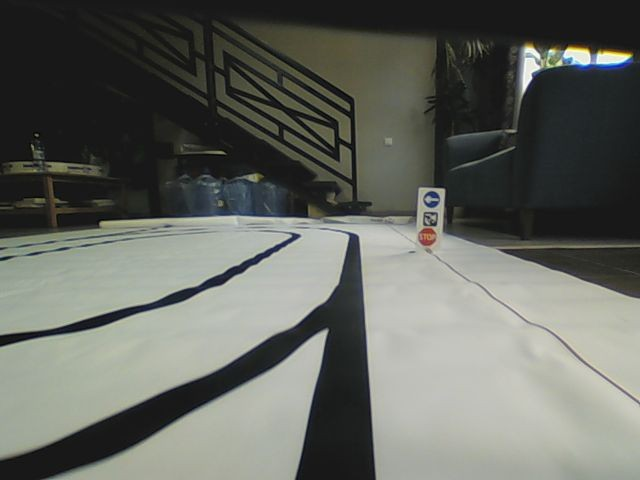Stop: (417, 228, 437, 247)
